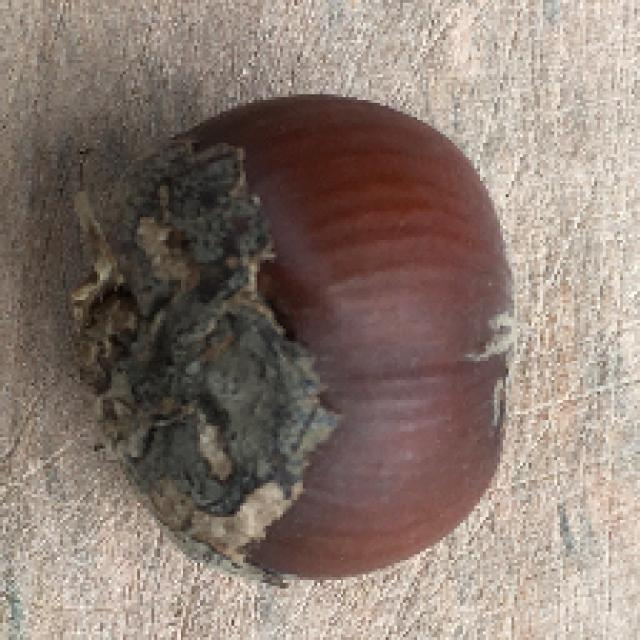DamagedHazelnut: (73, 97, 517, 589)
